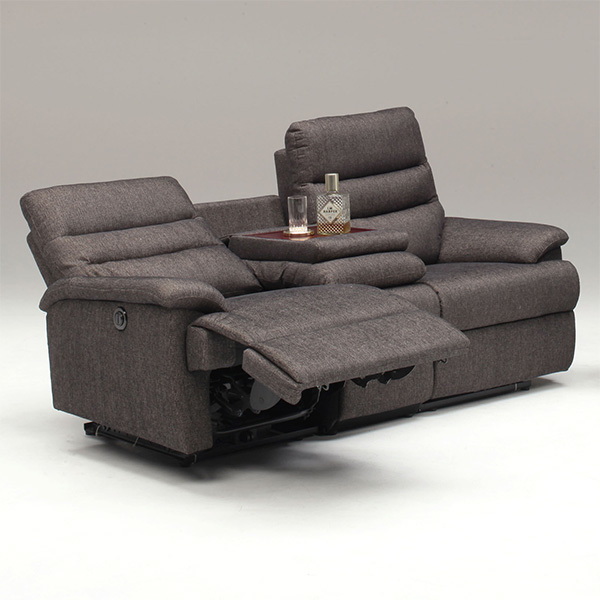chairs: (9, 107, 599, 474)
